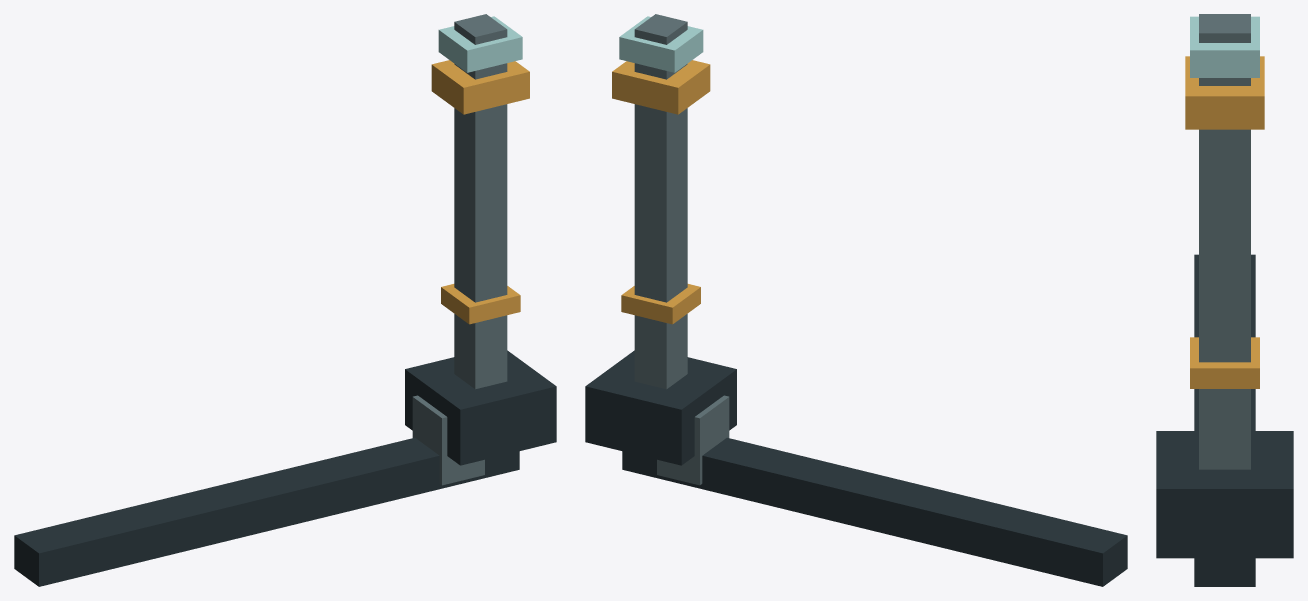
The model's file is RailSpeedMarker.obj.
The picture shows the model from 3 angles, left to right: view 1: azimuth 30°, elevation 25°; view 2: azimuth 150°, elevation 25°; view 3: azimuth 270°, elevation 25°; orthographic projection. The views are drawn at different scales.
Visible parts, largest first — view 1: RailSpeedMarker; view 2: RailSpeedMarker; view 3: RailSpeedMarker.
Boxes of the visible parts, bbox=[...] form: RailSpeedMarker: bbox=[14, 14, 556, 586]; RailSpeedMarker: bbox=[585, 14, 1127, 586]; RailSpeedMarker: bbox=[1156, 14, 1293, 586].
Size of the model in its own units: 4.7 by 3.95 by 0.9.
Materials: 1 (1 with a texture image).
